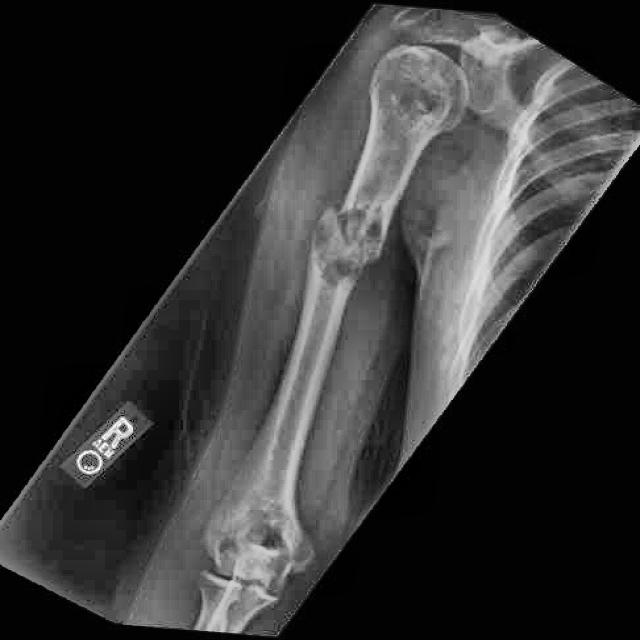humerus: (272, 168, 446, 337)
